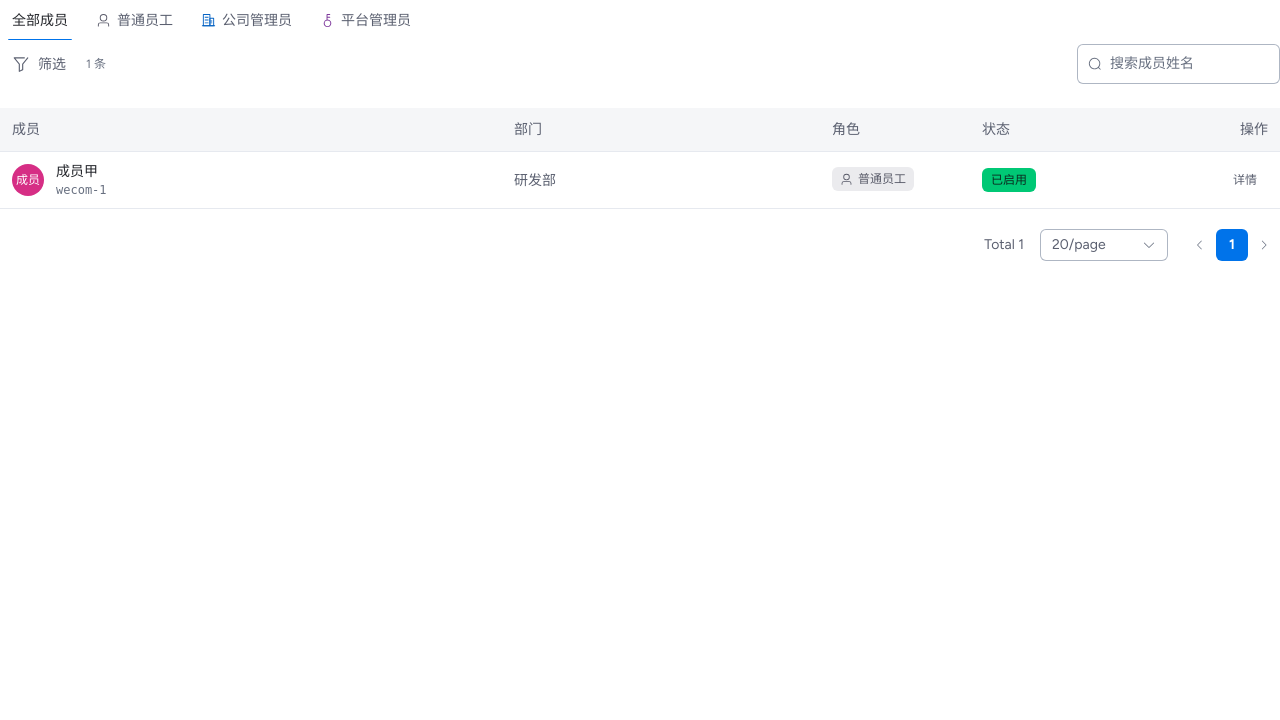
Test case: 成员版本冲突 › 在成员详情展示账号拒绝原因，仅认证过期 false 提供重新认证入口
The width and height of the screenshot is (1280, 720).
Click the button "详情".
click(1245, 180)  # box [1222,164,1268,196]
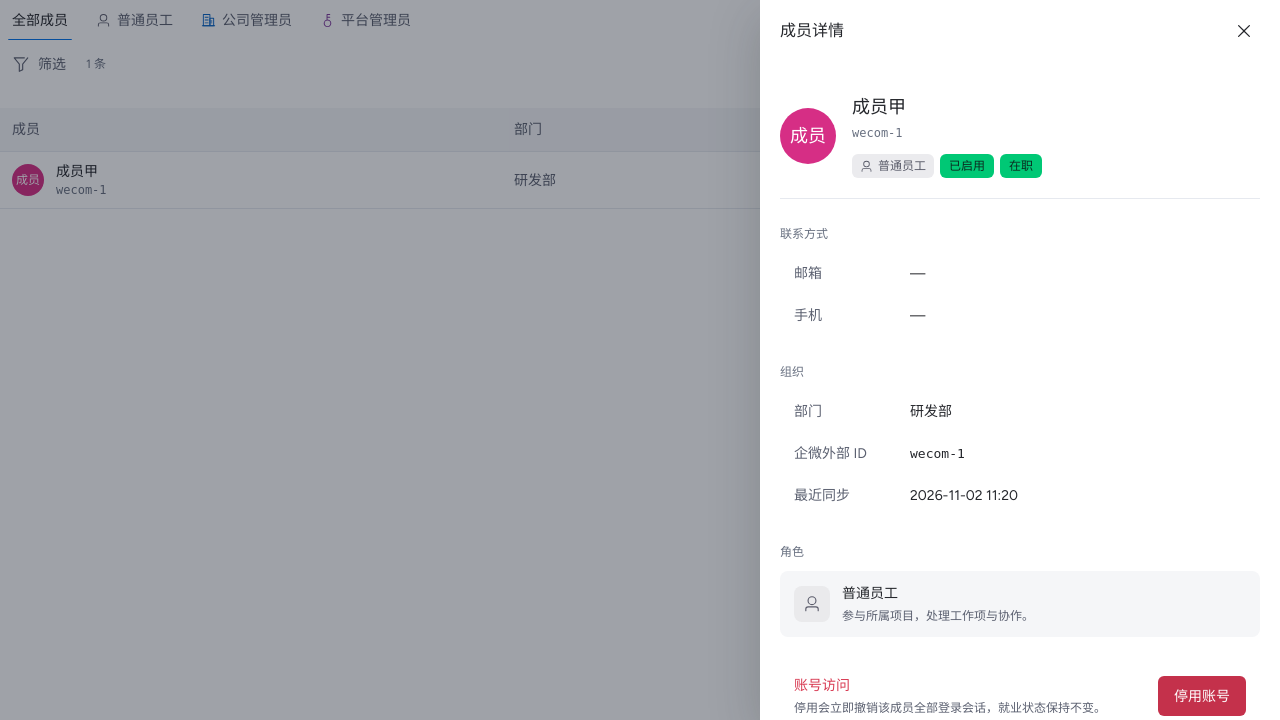
Click the button "停用账号".
click(1202, 696)  # box [1158,676,1246,716]
(page scrolled)
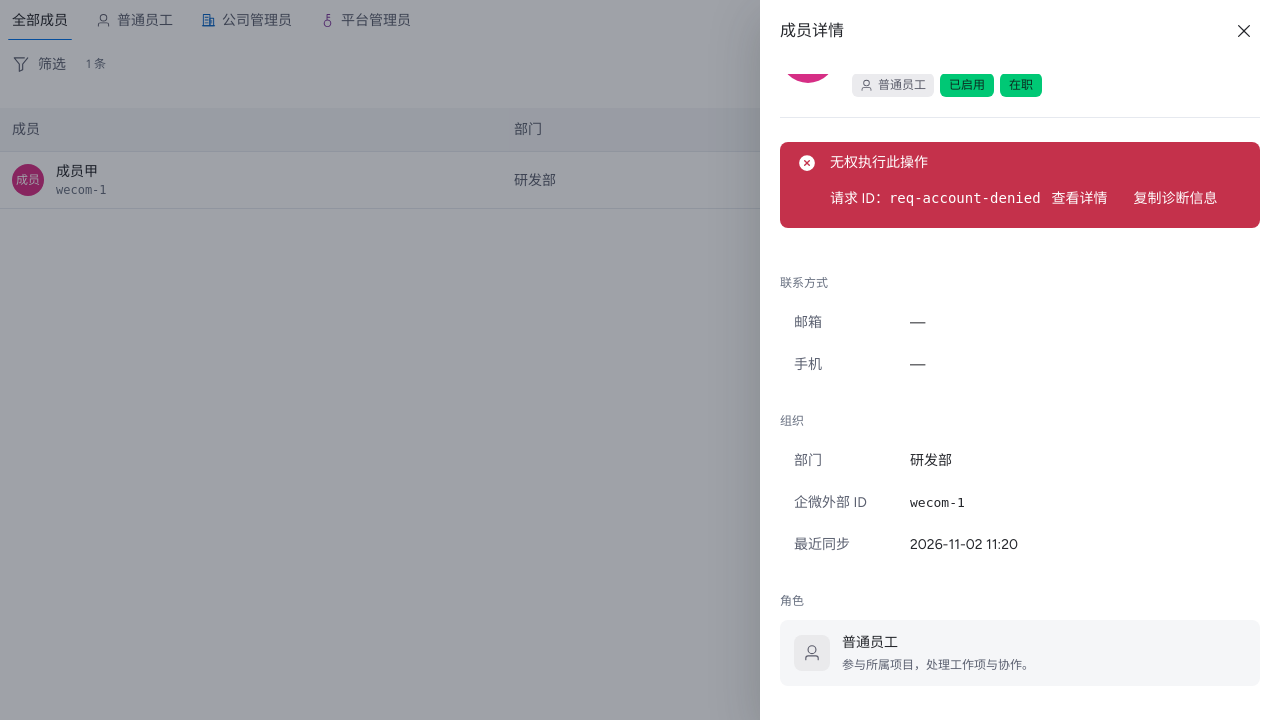
Expected: the element with class "member-profile" shows "req-account-denied", [889,190,1041,206]
Expected: the element with class "member-profile" shows "无权执行此操作", [830,154,928,171]
